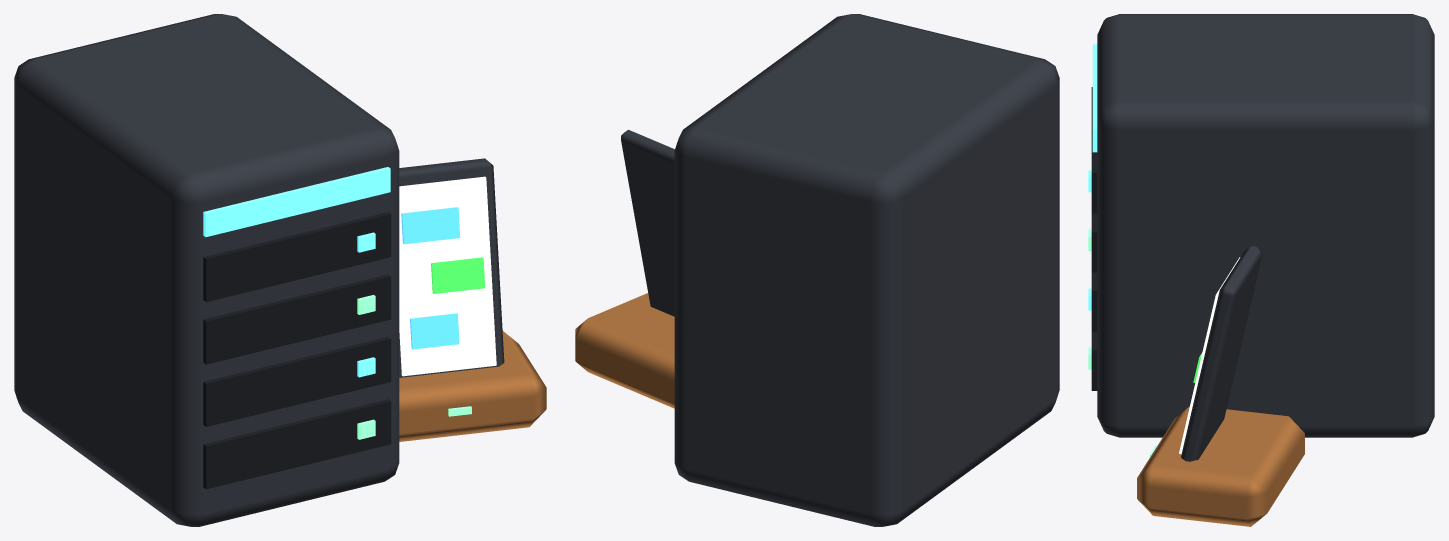
Rendered from station_transport_ausstattung_3_3.glb.
3 renders of one model, left to right at view 1: azimuth 30°, elevation 25°; view 2: azimuth 150°, elevation 25°; view 3: azimuth 270°, elevation 25°, orthographic. The views are drawn at different scales.
Parts seen in each view (by area): view 1: station_transport_ausstattung_3_3; view 2: station_transport_ausstattung_3_3; view 3: station_transport_ausstattung_3_3.
Boxes of the visible parts, x1,y1,x2,y2 form: station_transport_ausstattung_3_3: (14, 14, 546, 526); station_transport_ausstattung_3_3: (575, 14, 1059, 526); station_transport_ausstattung_3_3: (1088, 14, 1434, 526).
Bounding box in the file's own units: 0.4039 × 0.33 × 0.308.
